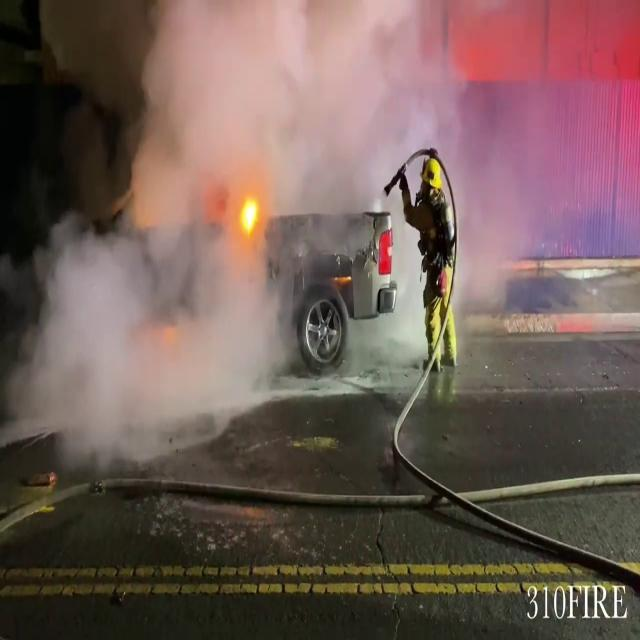Fire: (236, 186, 264, 246)
Smoke: (4, 1, 634, 447)
